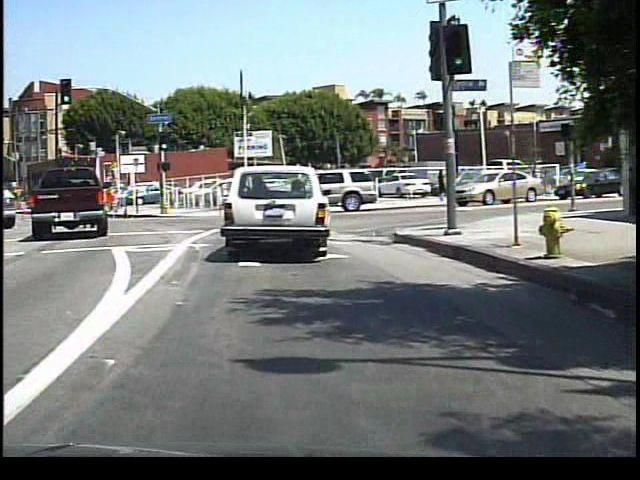person: (430, 161, 450, 204)
